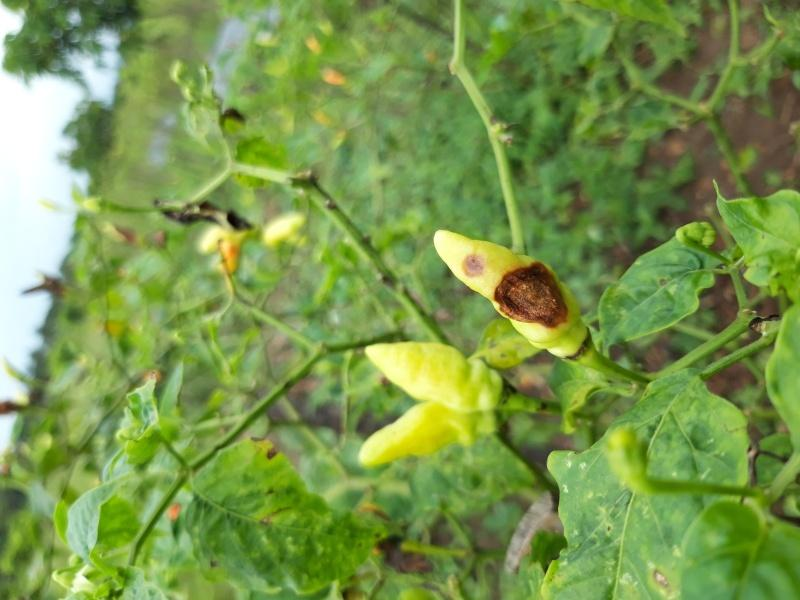antraknosa: (434, 228, 588, 355)
cabai_normal: (361, 399, 501, 466), (363, 341, 503, 407)
